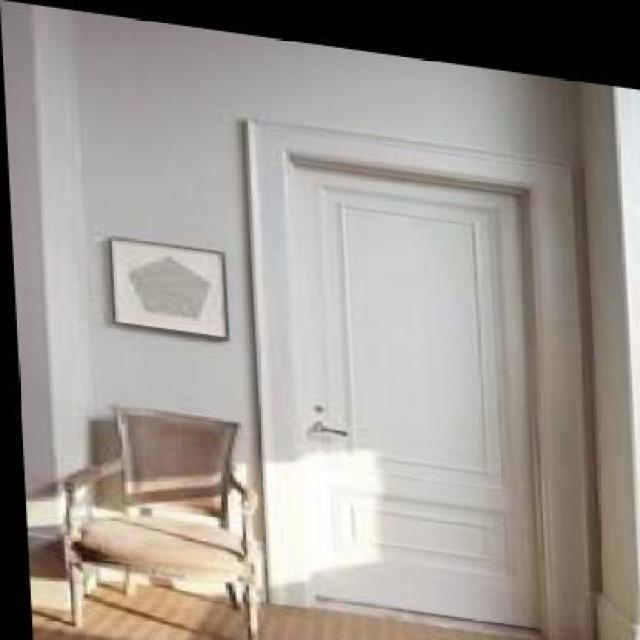door: (268, 130, 560, 640)
